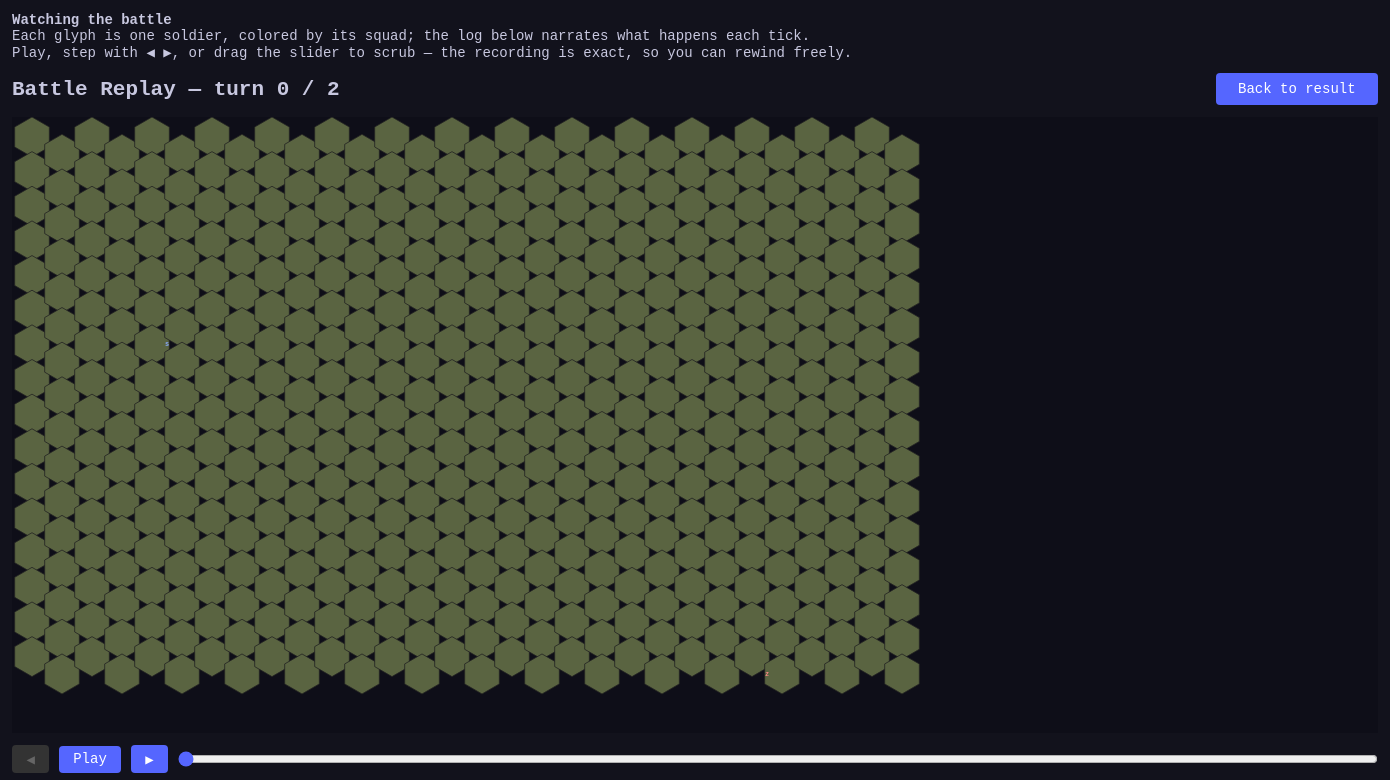
it: ReplayView Play button › Play runs the clock and moves the slider; Pause halts it
Expected: the text "Z" is shown, left=765, top=670, right=769, bottom=678
Step 1. Click the button with test id "replay-play" → (90,759), box left=59, top=746, right=121, bottom=773
Wait 250 ms
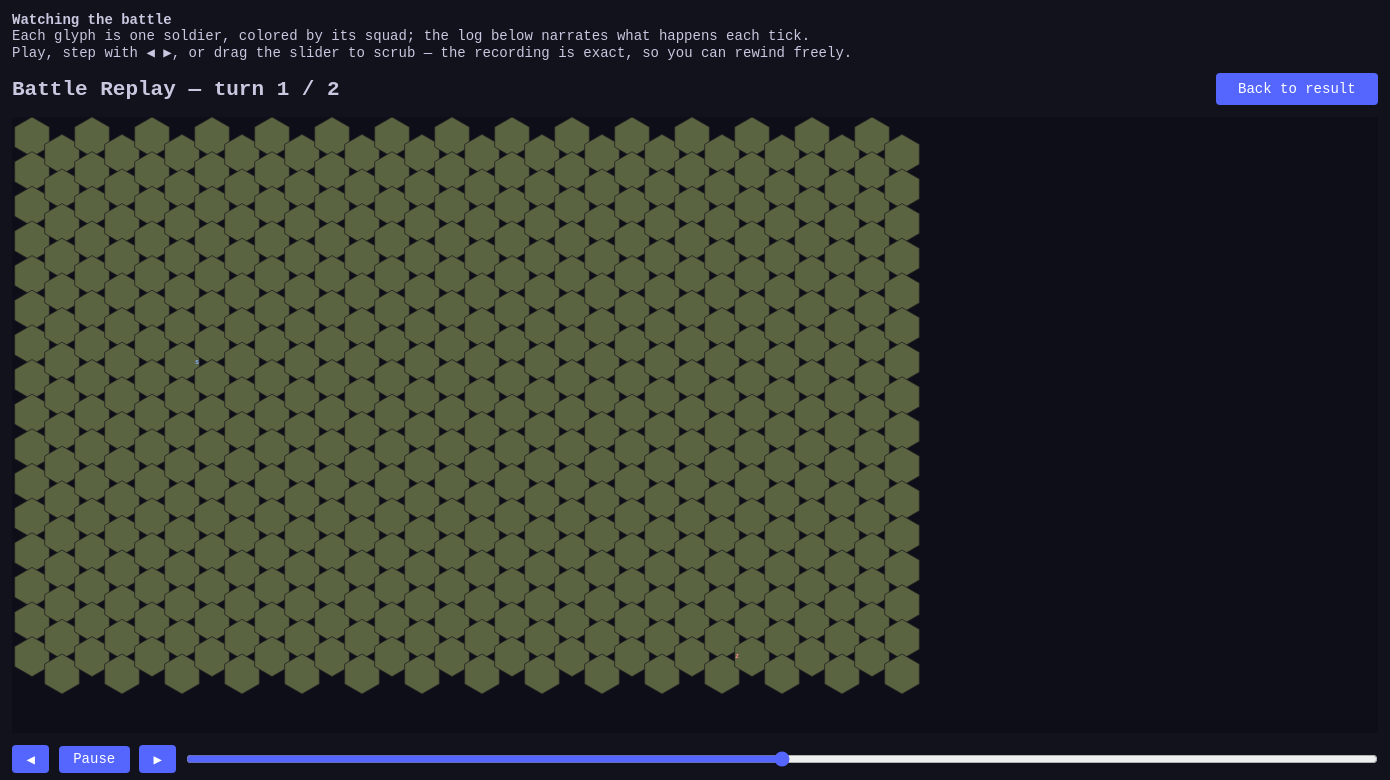
Expected: the button with test id "replay-play" reads "Pause"
Expected: the slider with test id "replay-slider" holds "1", left=186, top=751, right=1378, bottom=767
Step 2. Click the button with test id "replay-play" → (94,759), box left=59, top=746, right=130, bottom=773
Wait 1000 ms
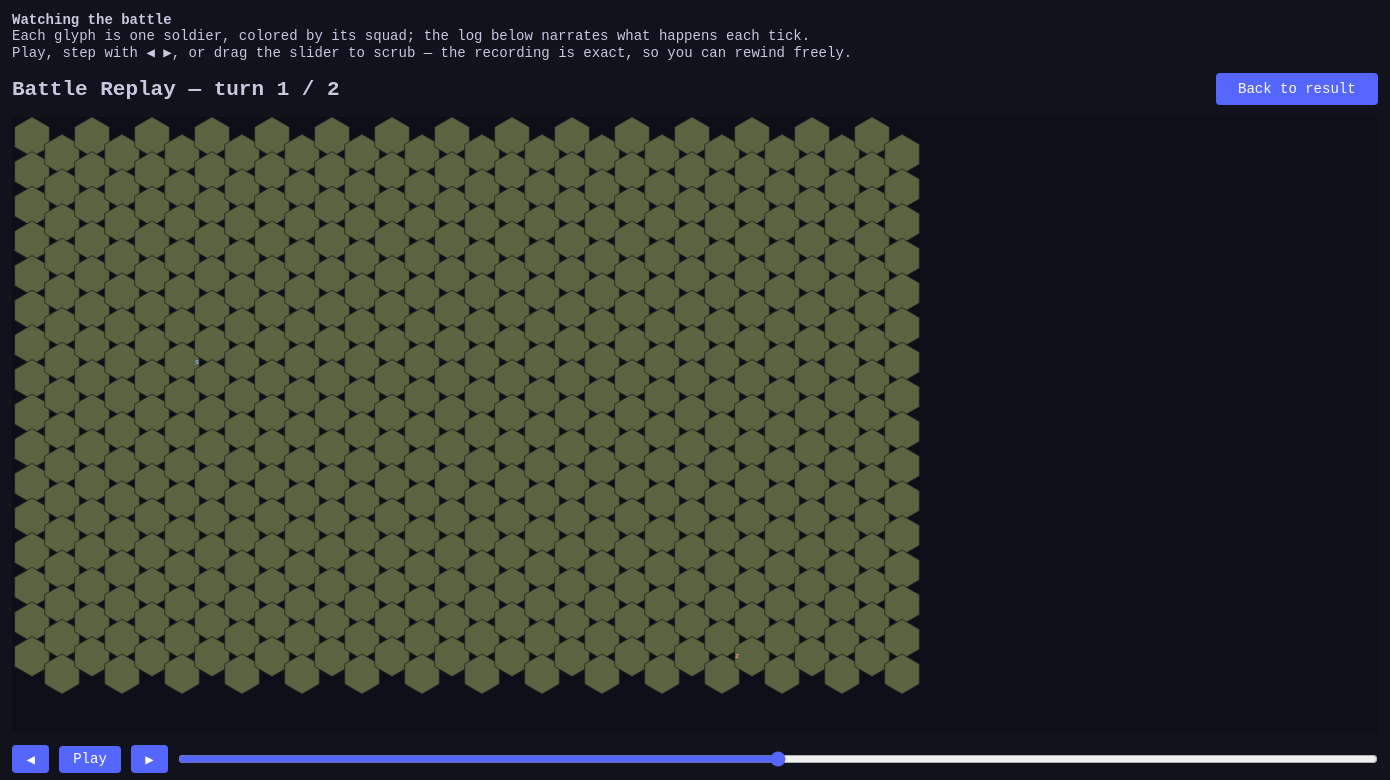
Expected: the slider with test id "replay-slider" holds "1", left=178, top=751, right=1378, bottom=767
Expected: the button with test id "replay-play" reads "Play", left=59, top=746, right=121, bottom=773
